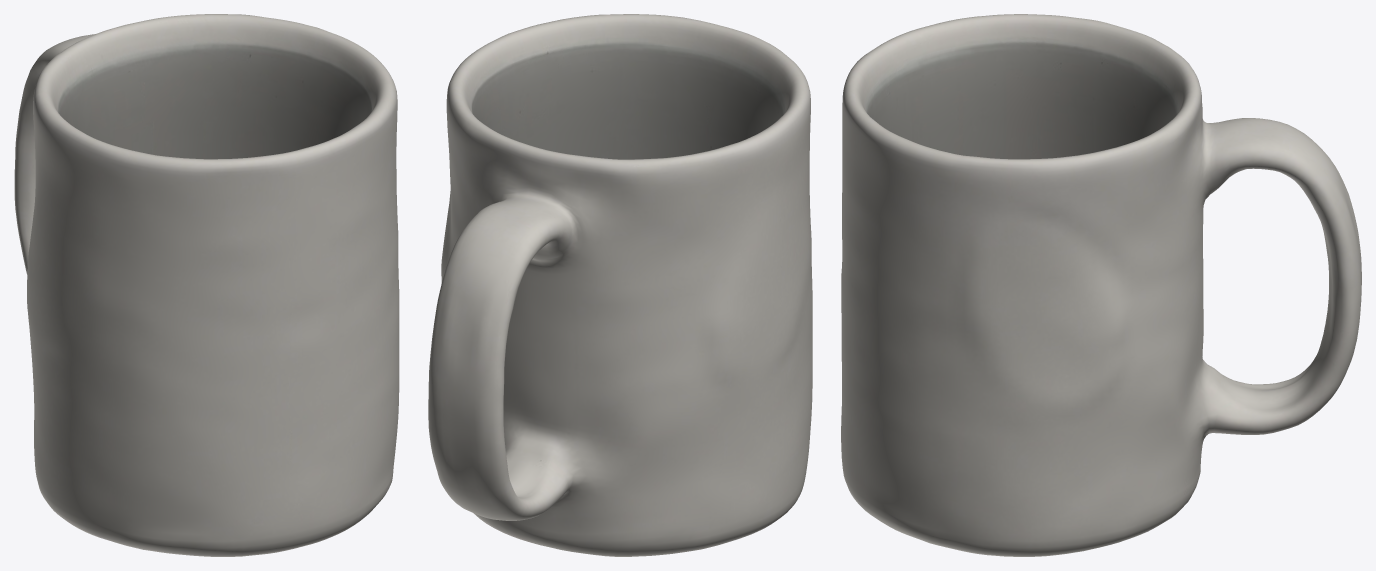
The picture shows the model from 3 angles, left to right: view 1: azimuth 30°, elevation 25°; view 2: azimuth 150°, elevation 25°; view 3: azimuth 270°, elevation 25°; orthographic projection.
Parts seen in each view (by area): view 1: tripo_node_7b035e85-f31e-4e44-a742-a55902ee994f; view 2: tripo_node_7b035e85-f31e-4e44-a742-a55902ee994f; view 3: tripo_node_7b035e85-f31e-4e44-a742-a55902ee994f.
Part boxes in pixels (x1,y1,x2,y2): tripo_node_7b035e85-f31e-4e44-a742-a55902ee994f: (14,14,399,556); tripo_node_7b035e85-f31e-4e44-a742-a55902ee994f: (428,14,812,556); tripo_node_7b035e85-f31e-4e44-a742-a55902ee994f: (841,14,1361,556).
Size of the model in its own units: 0.7093 by 0.8481 by 0.9995.
Materials: 1 (1 with a texture image).
